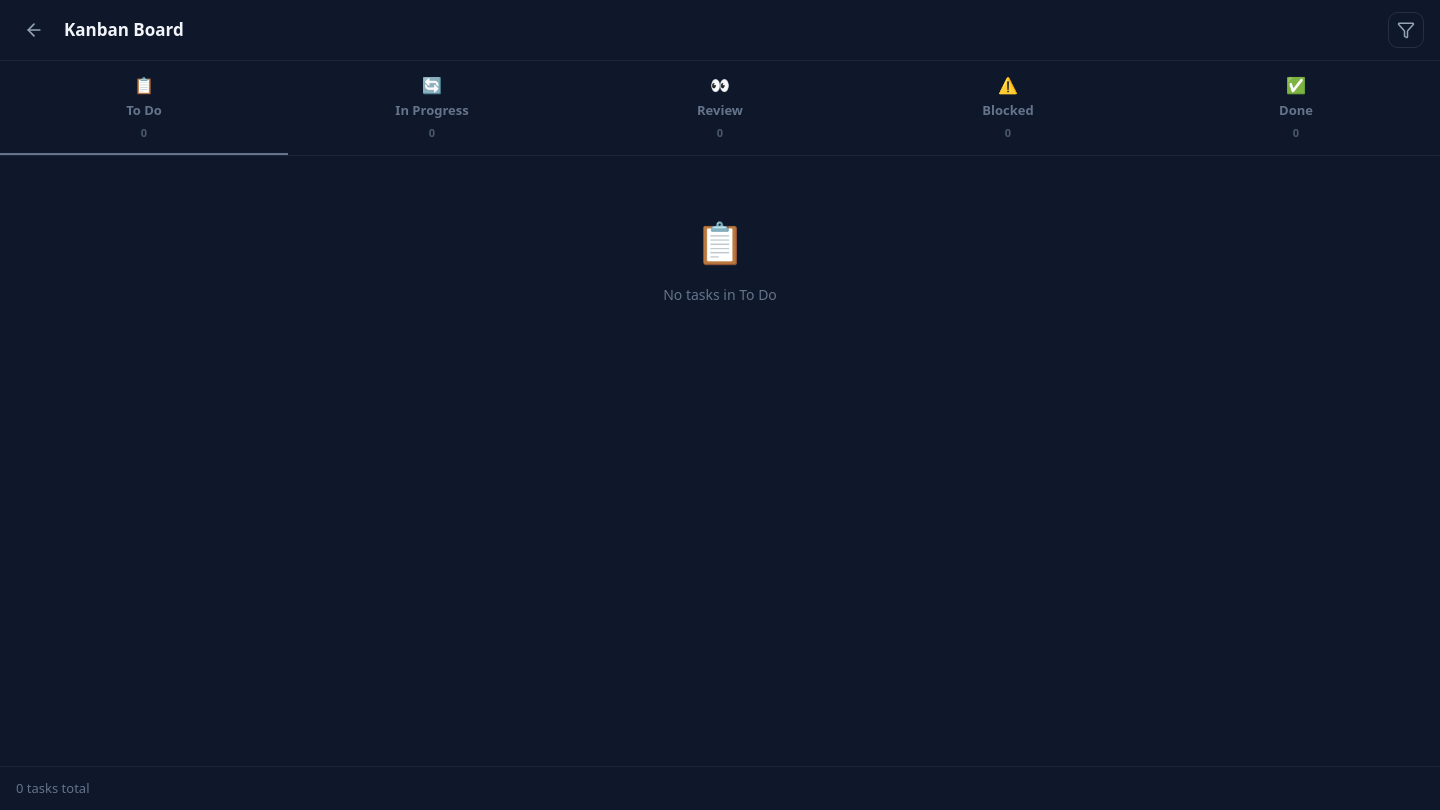
Test: MobileKanbanPanel › filter sheet › shows project names in filter list
The width and height of the screenshot is (1440, 810).
What coordinates should you click on to do the following:
click the button with class "lucide-funnel"
I would click on:
 (1406, 30)
Its box is [1388,12,1424,48].
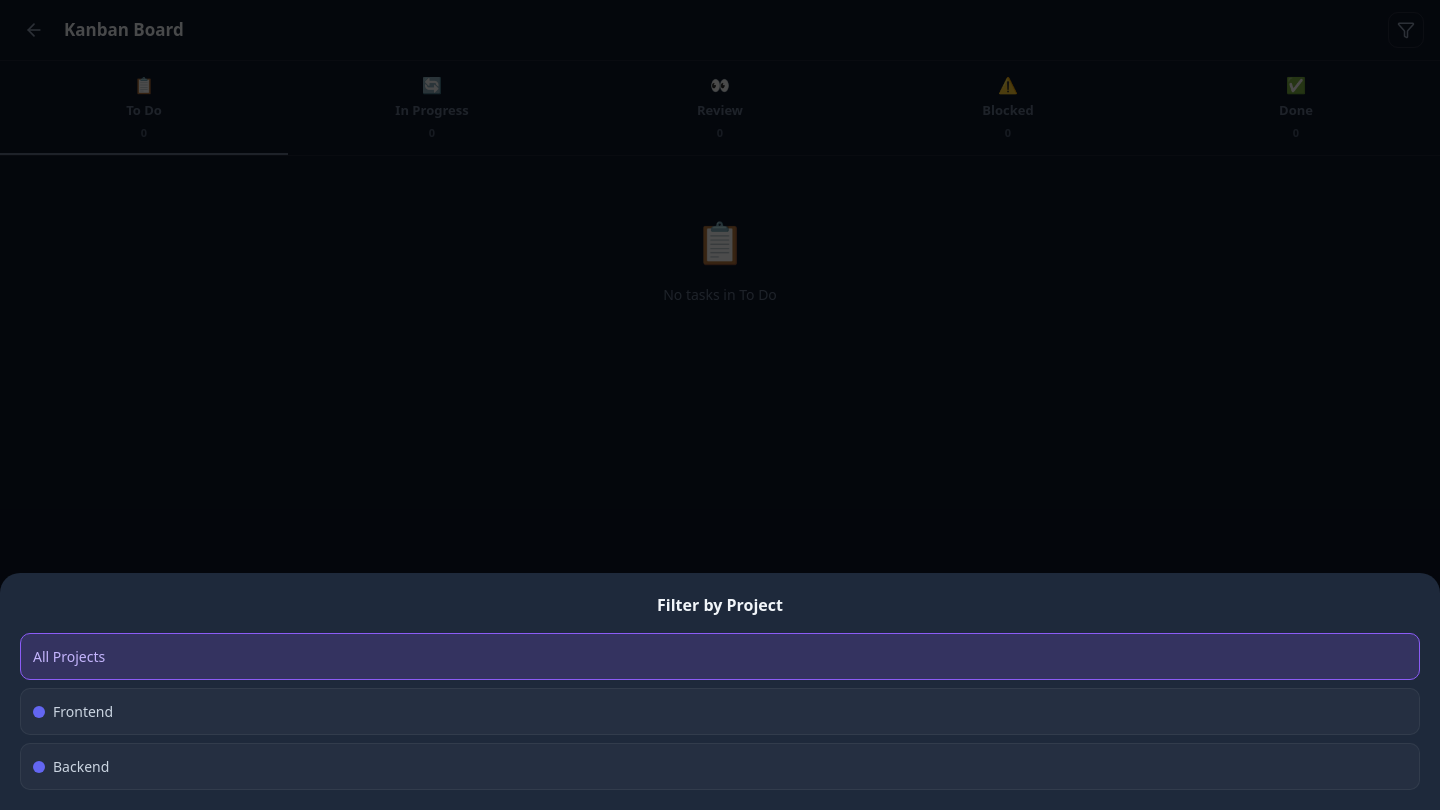
Result: the text "Frontend" is shown at [53,701,113,722]
Result: the text "Backend" is shown at [53,756,109,777]
